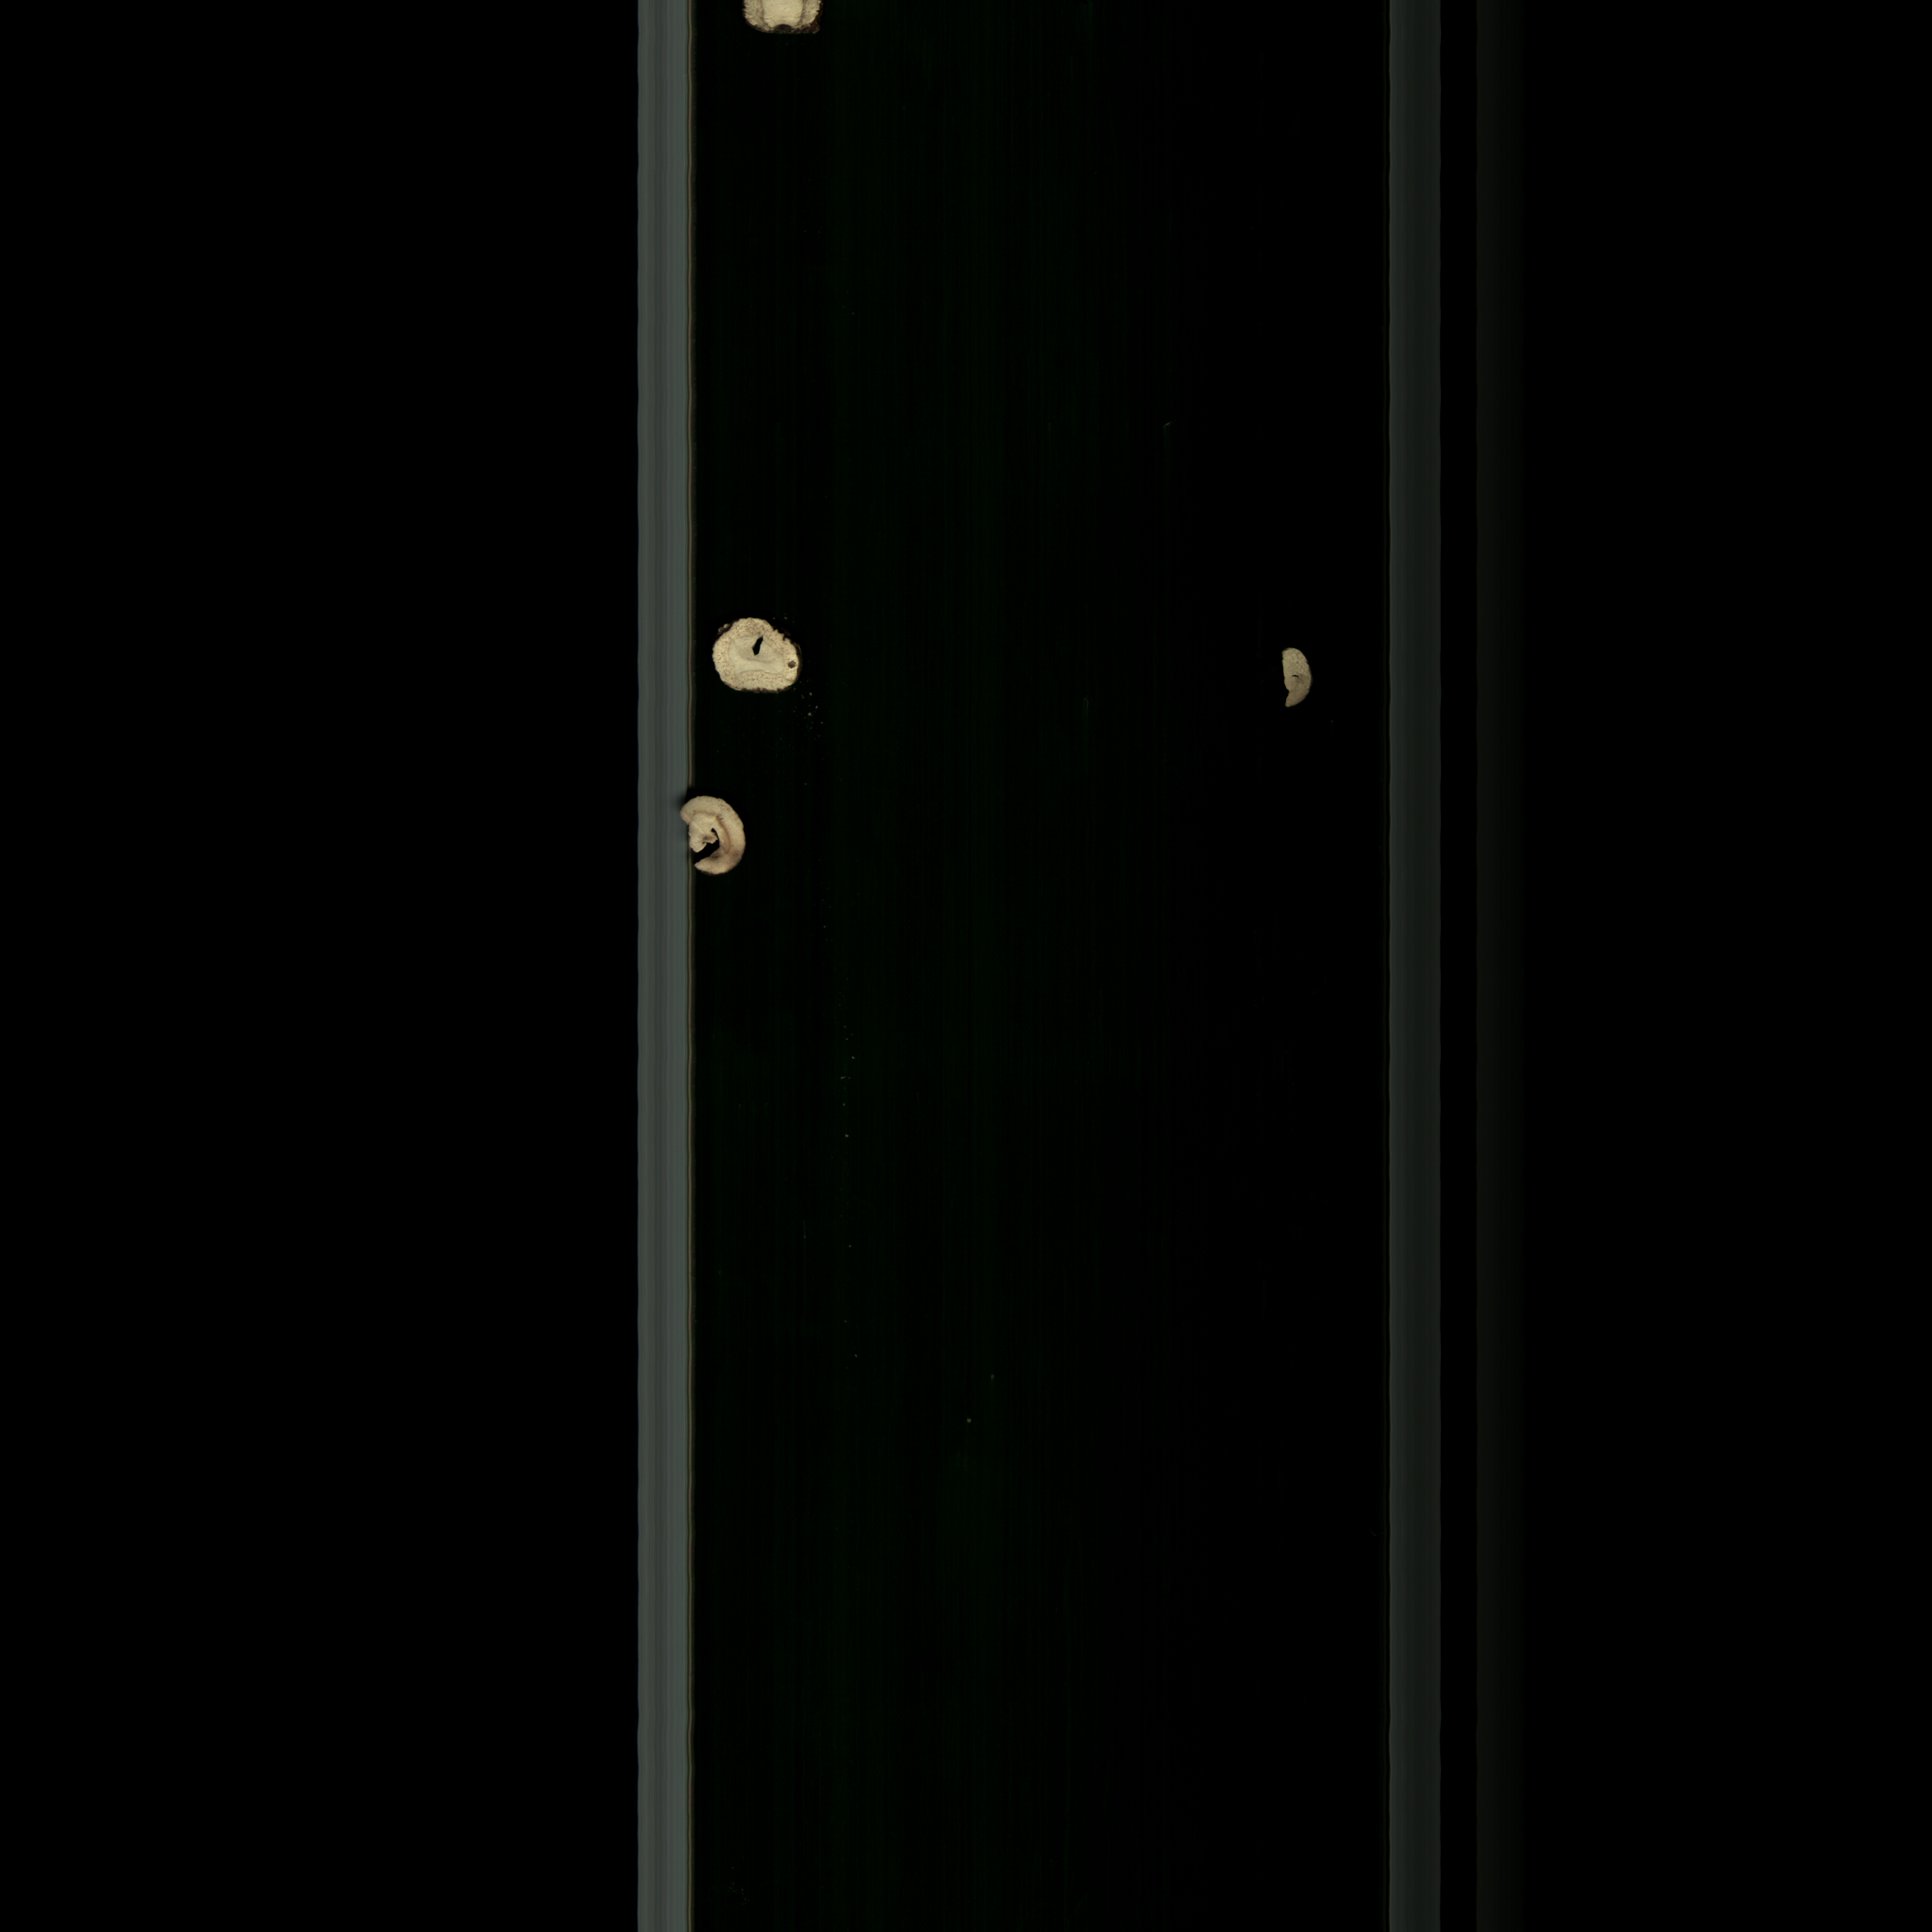debris: (724, 0, 886, 80), (1269, 635, 1330, 727)
hole: (704, 593, 819, 706)
moldy: (674, 793, 766, 899)
